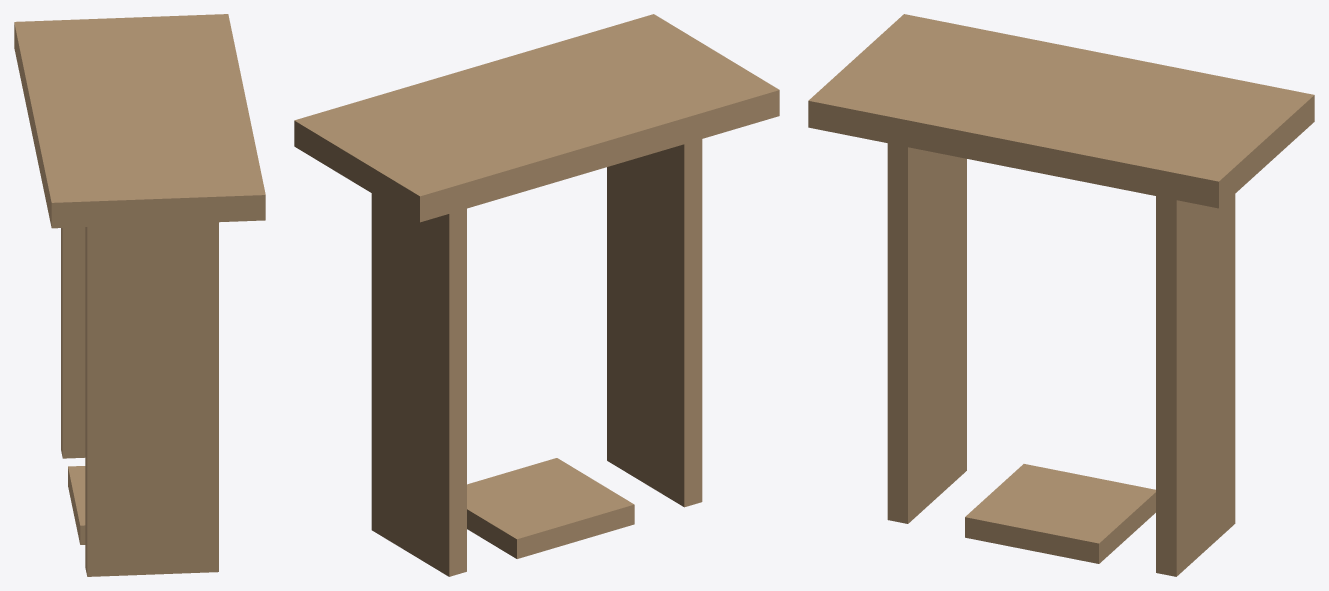
The model's file is beso-executive-table-white.glb.
3 views of the same model, side by side, from view 1: azimuth 30°, elevation 25°; view 2: azimuth 150°, elevation 25°; view 3: azimuth 270°, elevation 25° (orthographic). The views are drawn at different scales.
Size of the model in its own units: 45.54 by 54 by 58.12.
